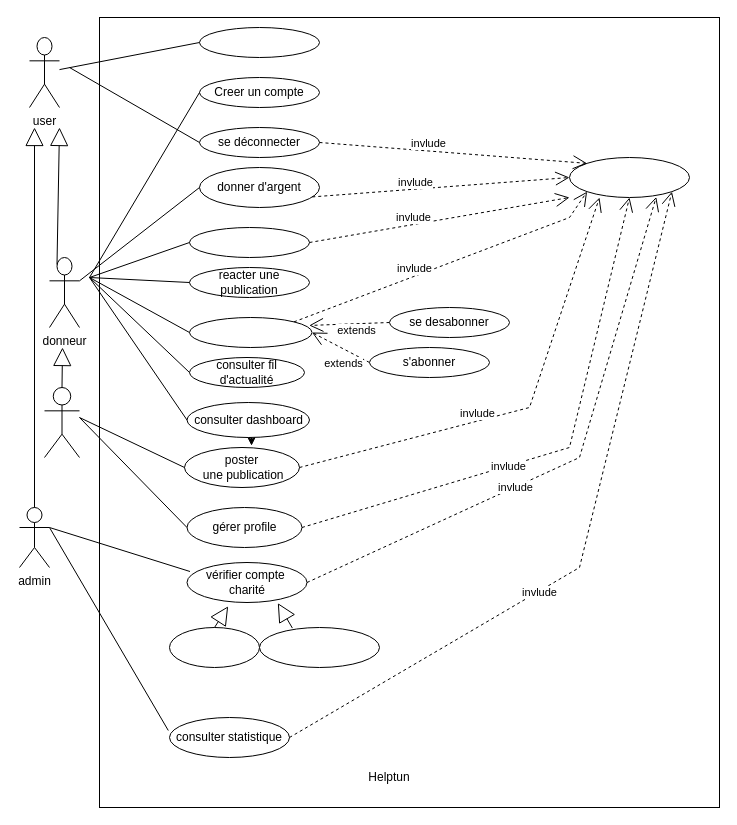
The diagram is 737 pixels wide and 825 high, and some of its shapes have lost their labels. Each missing label, with the box of its shape:
approuver: (168, 626, 260, 668)
charité: (44, 386, 80, 458)
commenter publication: (188, 226, 310, 258)
connecter: (198, 26, 320, 58)
consulter charité: (188, 316, 312, 348)
rejecter: (258, 626, 380, 668)
s'authentifier: (568, 156, 690, 198)
